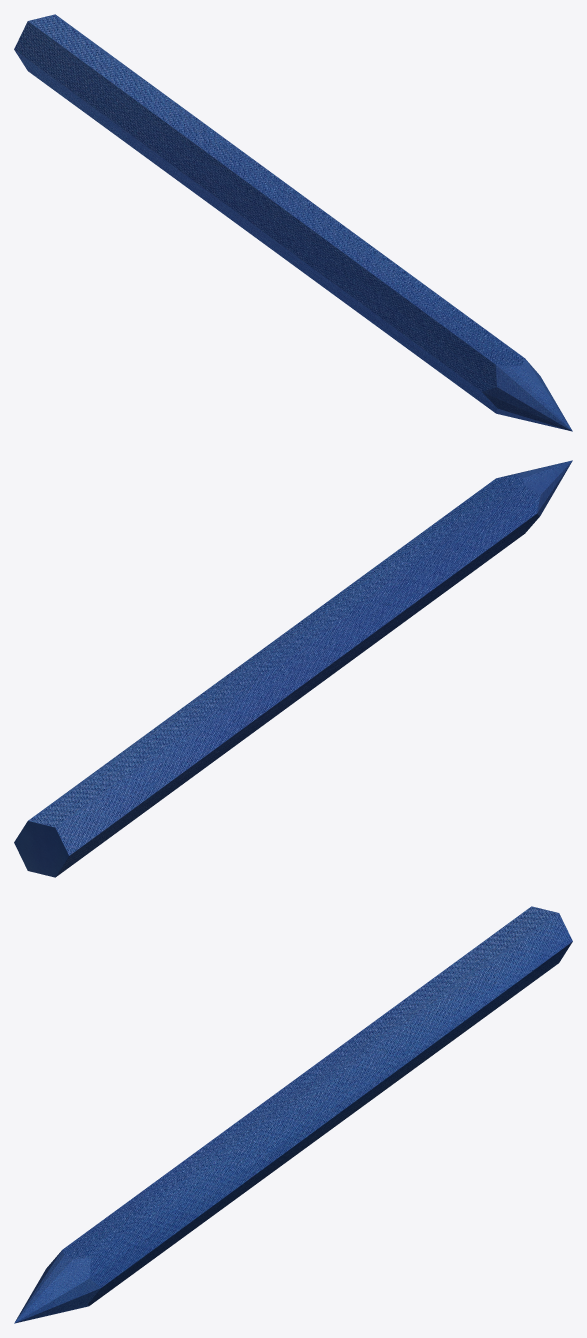
File: pencil-01.obj
3 views of the same model, one above another, from view 1: azimuth 30°, elevation 25°; view 2: azimuth 150°, elevation 25°; view 3: azimuth 330°, elevation 25° (orthographic).
Visible parts, largest first — view 1: pencil; view 2: pencil; view 3: pencil.
Boxes of the visible parts, x1,y1,x2,y2 form: pencil: (14, 14, 572, 431); pencil: (14, 460, 572, 877); pencil: (14, 906, 572, 1323).
Size of the model in its own units: 0.6 by 0.5215 by 10.
Materials: 1 (1 with a texture image).
